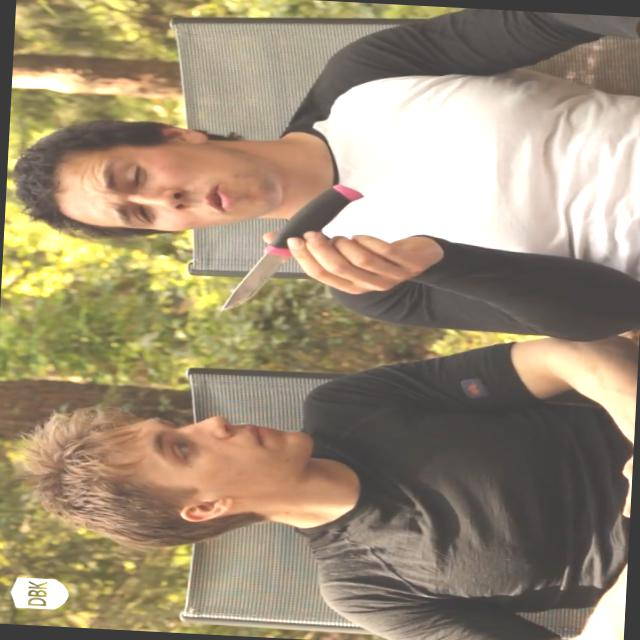knife: (207, 171, 382, 326)
